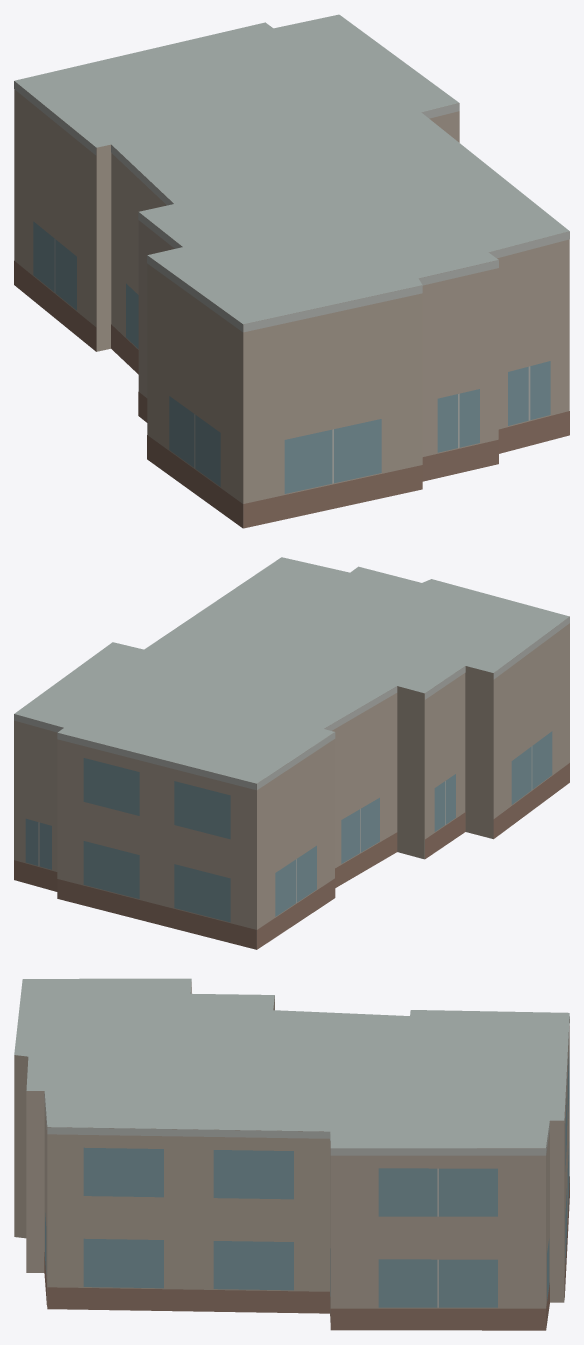
Rendered from survey-upis-32660176.glb.
3 views of the same model, one above another, from view 1: azimuth 30°, elevation 25°; view 2: azimuth 150°, elevation 25°; view 3: azimuth 270°, elevation 25° (orthographic). The views are drawn at different scales.
Visible parts, largest first — view 1: survey-upis-32660176.tmp; view 2: survey-upis-32660176.tmp; view 3: survey-upis-32660176.tmp.
Part boxes in pixels (box(x1,y1,x2,y2)): survey-upis-32660176.tmp: box(14, 14, 569, 528); survey-upis-32660176.tmp: box(14, 557, 569, 949); survey-upis-32660176.tmp: box(14, 978, 569, 1330).
Size of the model in its own units: 12.23 by 6.1 by 16.89.
